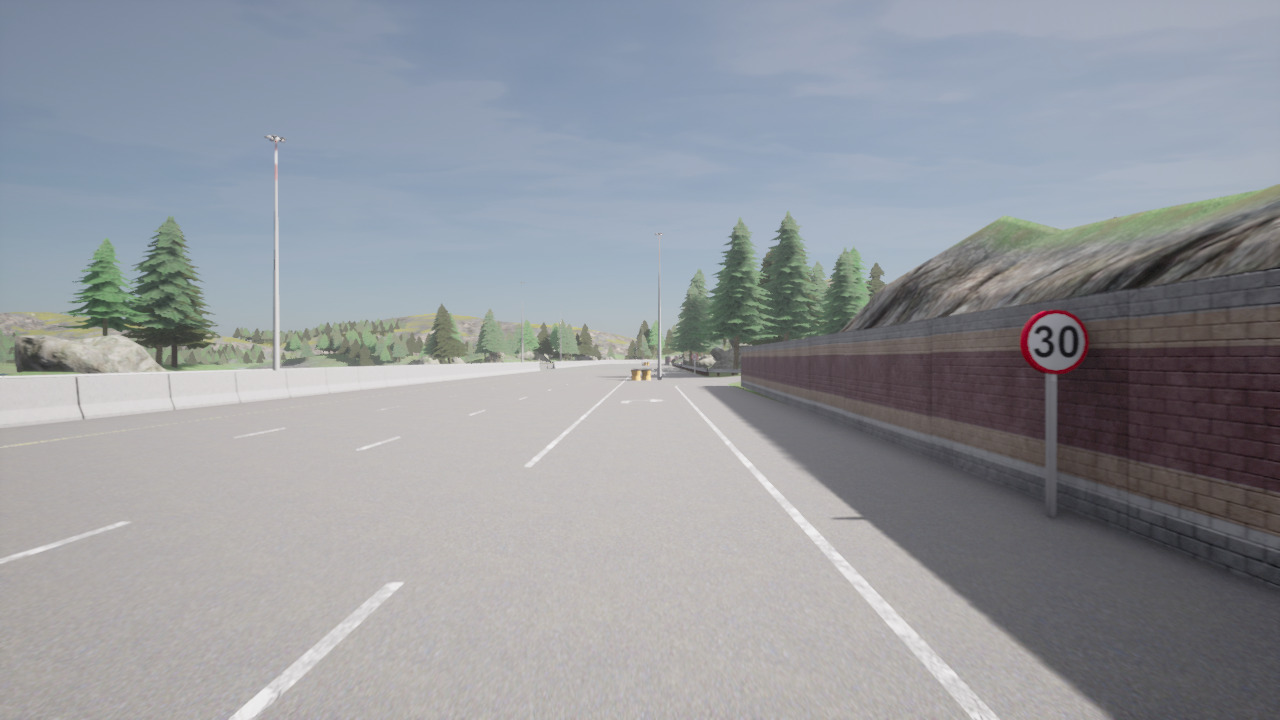sl30: (1018, 308, 1092, 376)
